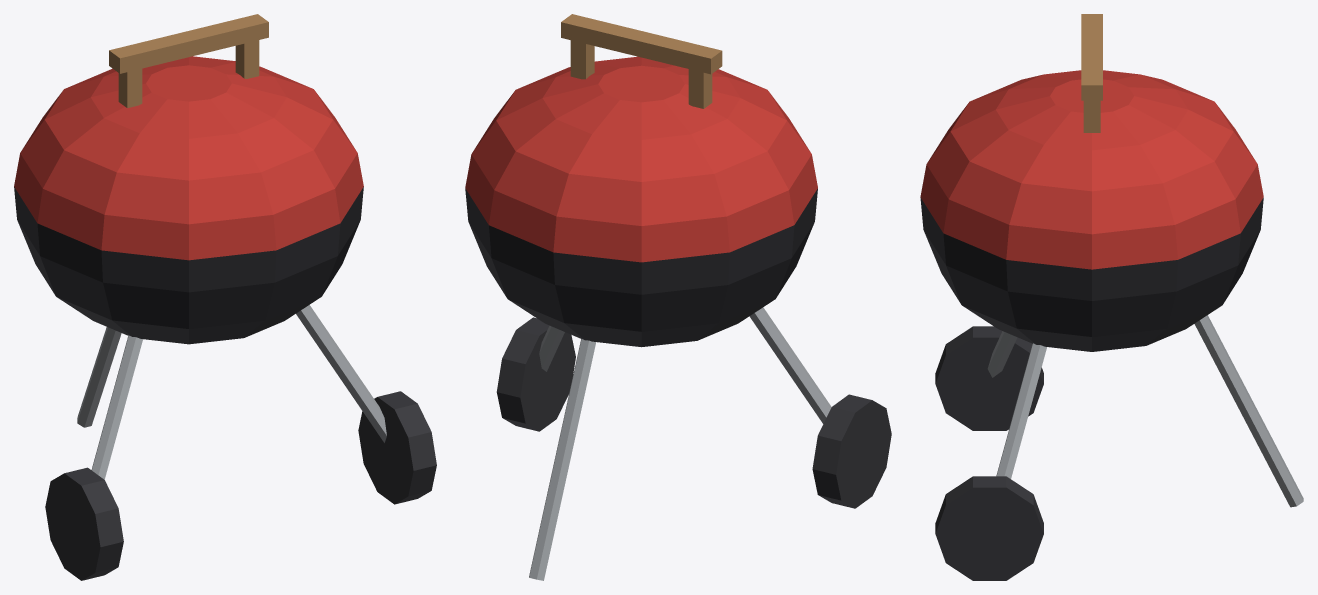
File: FN_Barbecue_Kettle.glb
3 renders of one model, left to right at view 1: azimuth 30°, elevation 25°; view 2: azimuth 150°, elevation 25°; view 3: azimuth 270°, elevation 25°, orthographic. The views are drawn at different scales.
Visible parts, largest first — view 1: FN_Barbecue_Kettle; view 2: FN_Barbecue_Kettle; view 3: FN_Barbecue_Kettle.
Boxes of the visible parts, box(x1,y1,x2,y2) form: FN_Barbecue_Kettle: box(14, 14, 436, 580); FN_Barbecue_Kettle: box(465, 14, 891, 580); FN_Barbecue_Kettle: box(920, 14, 1303, 580).
Size of the model in its own units: 0.6329 by 0.8352 by 0.636.
Materials: 1 (1 with a texture image).
